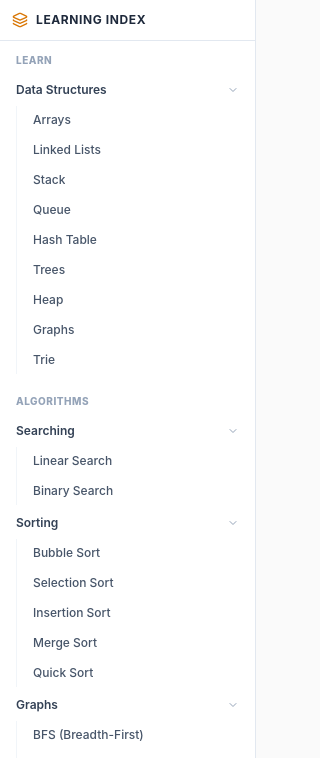
Test: Layout - Sidebar Component › toggles sub-group expansion when category header is clicked
The width and height of the screenshot is (320, 758).
Check: the text "Linear Search" is shown, box [33,453,112,469]
Click the button "Searching". click: point(128, 431)
box: [8,417,247,445]
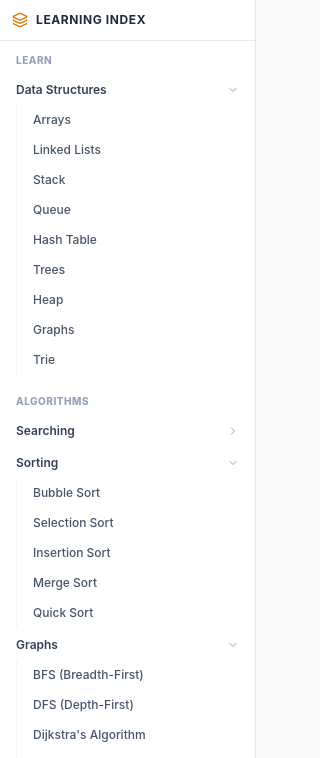
Check: the link "Linear Search" is gone
Click the button "Searching". click: point(128, 431)
box: [8,417,247,445]
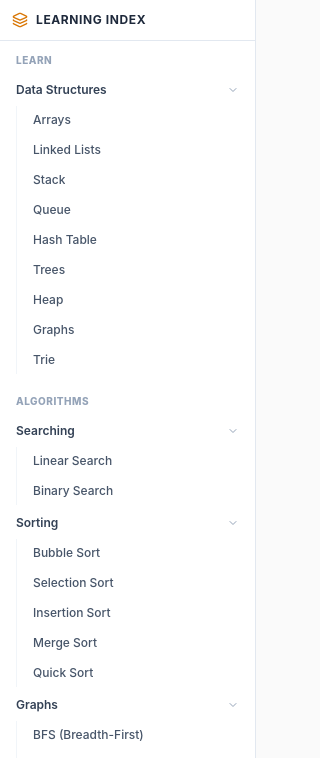
Check: the text "Linear Search" is shown, box [33,453,112,469]
